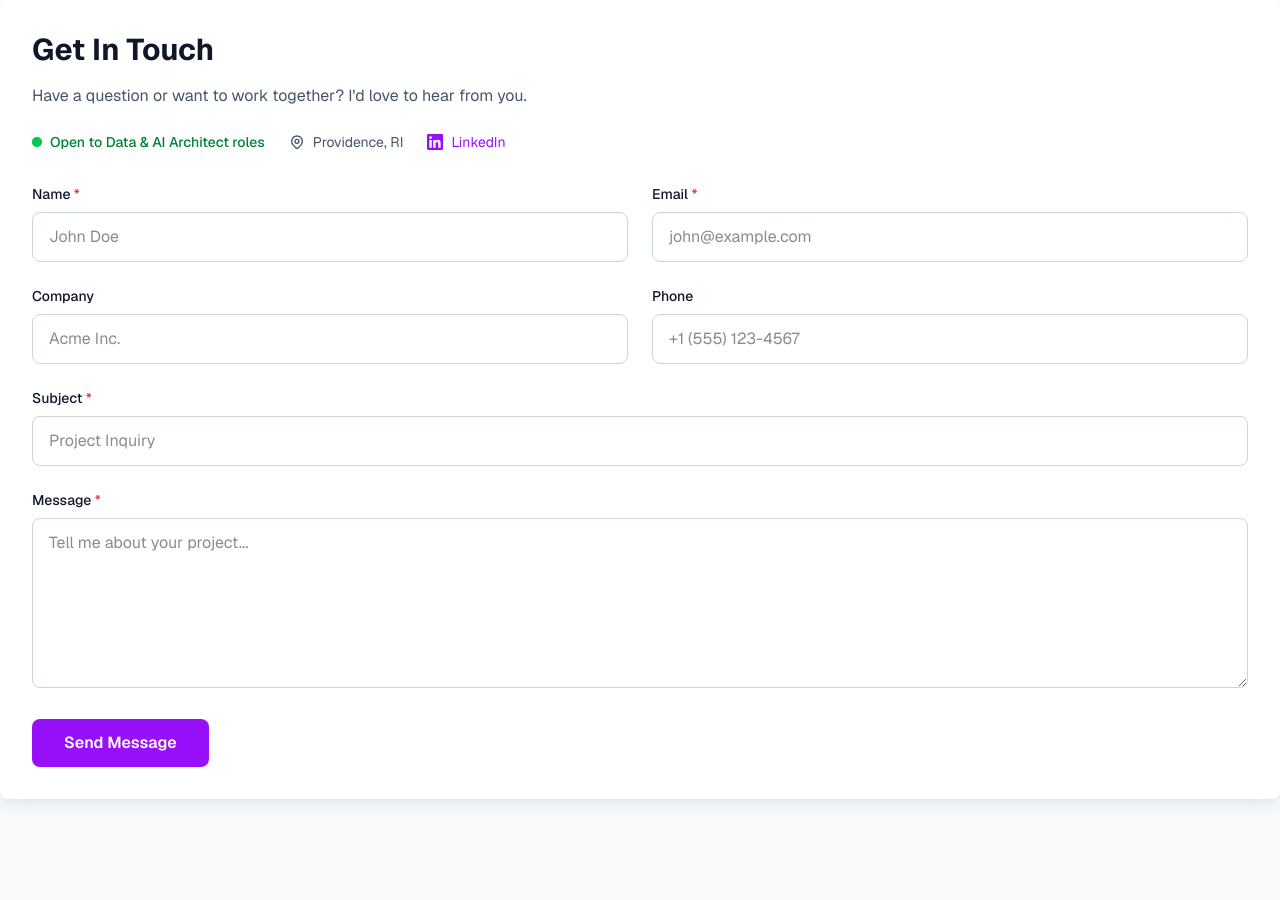
ContactForm Component › should show validation errors for required fields
Click the button "Send Message" at (120, 743), box [32, 719, 209, 767]
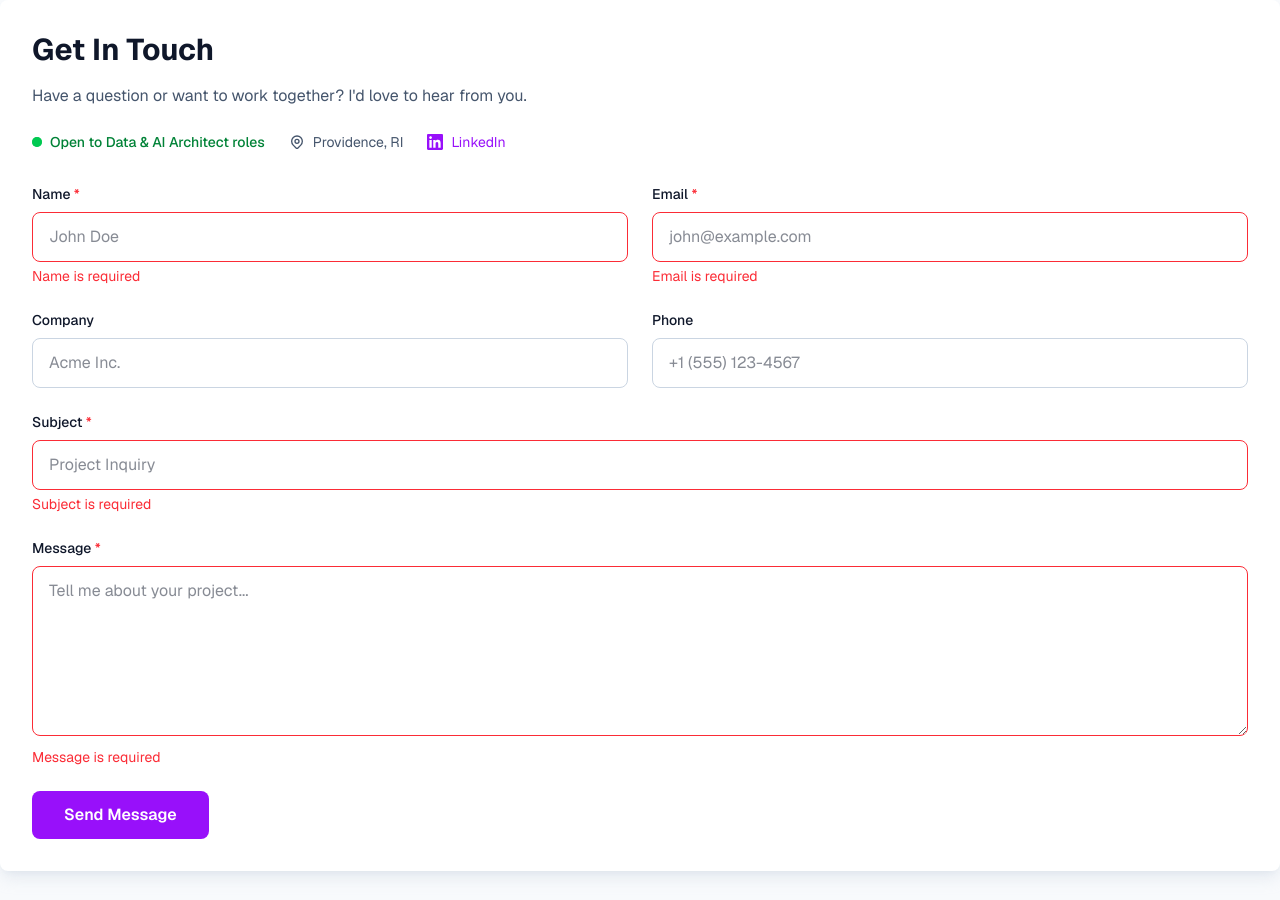
Expected: the text "Name is required" is shown, [32, 267, 140, 285]
Expected: the text "Email is required" is shown, [652, 267, 758, 285]
Expected: the text "Subject is required" is shown, [32, 495, 151, 513]
